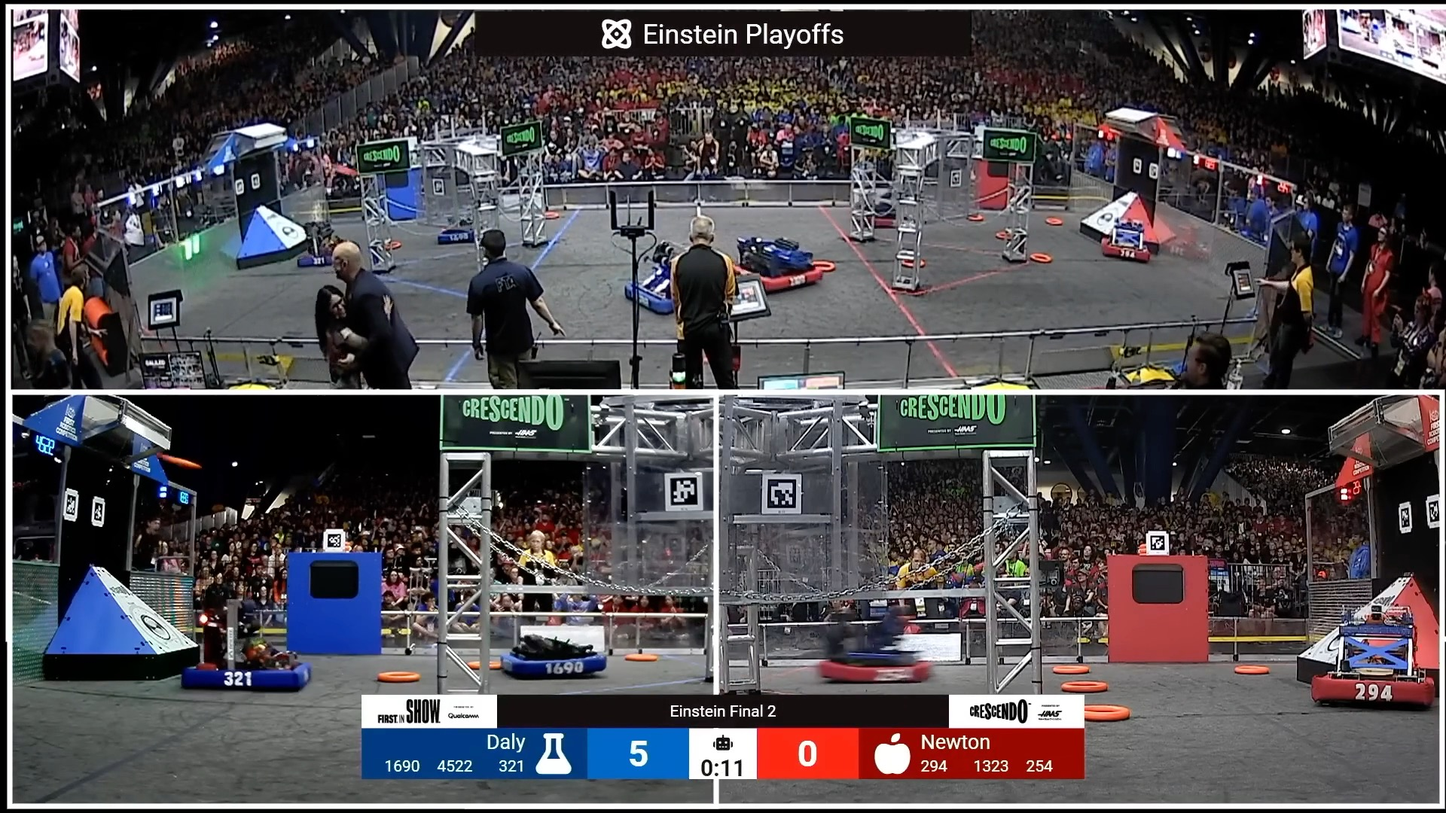bumpers: (181, 649, 325, 700), (730, 243, 840, 298), (808, 646, 930, 694), (1304, 669, 1438, 711), (484, 641, 611, 682), (627, 270, 730, 315), (437, 220, 490, 246), (1096, 243, 1154, 265), (296, 247, 356, 267), (852, 213, 918, 230)
